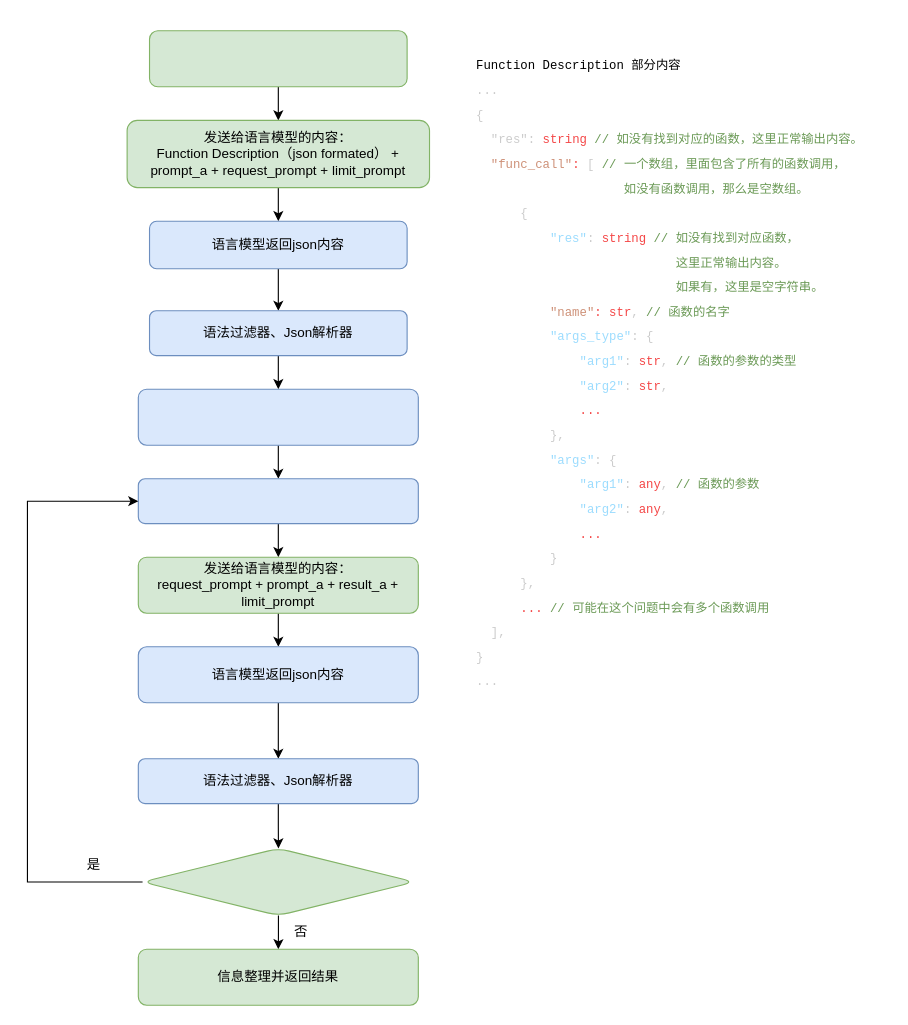
The diagram is 908 pixels wide and 1025 high, and some of its shapes have lost their labels. The shapes that lost their labels are listed below. From the top down, each one's centre as x and y in pixels, then its label:
the point at 277,58: 用户的问题（prompt_a）
the point at 277,416: 解析出请求的本地Python函数列表，如 web_keyword_search_via_bing(keyword)
the point at 277,501: 调用该函数并得到返回结果result_a
the point at 277,881: 是否需要再次调用
